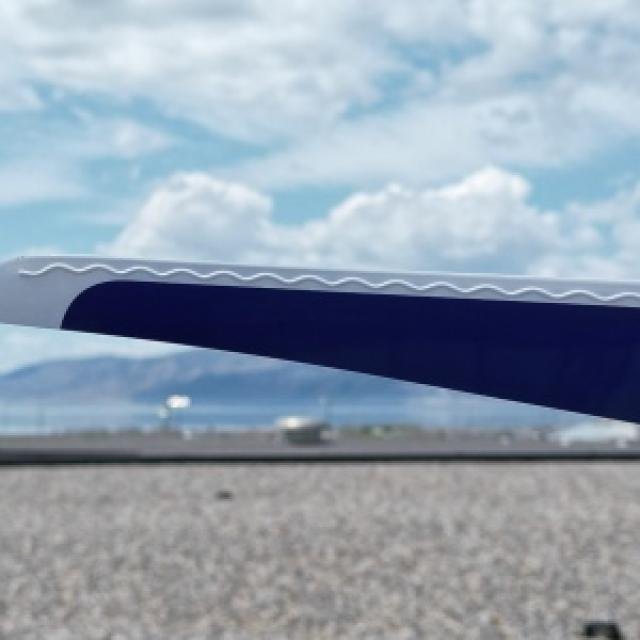healthy: (0, 256, 638, 420)
